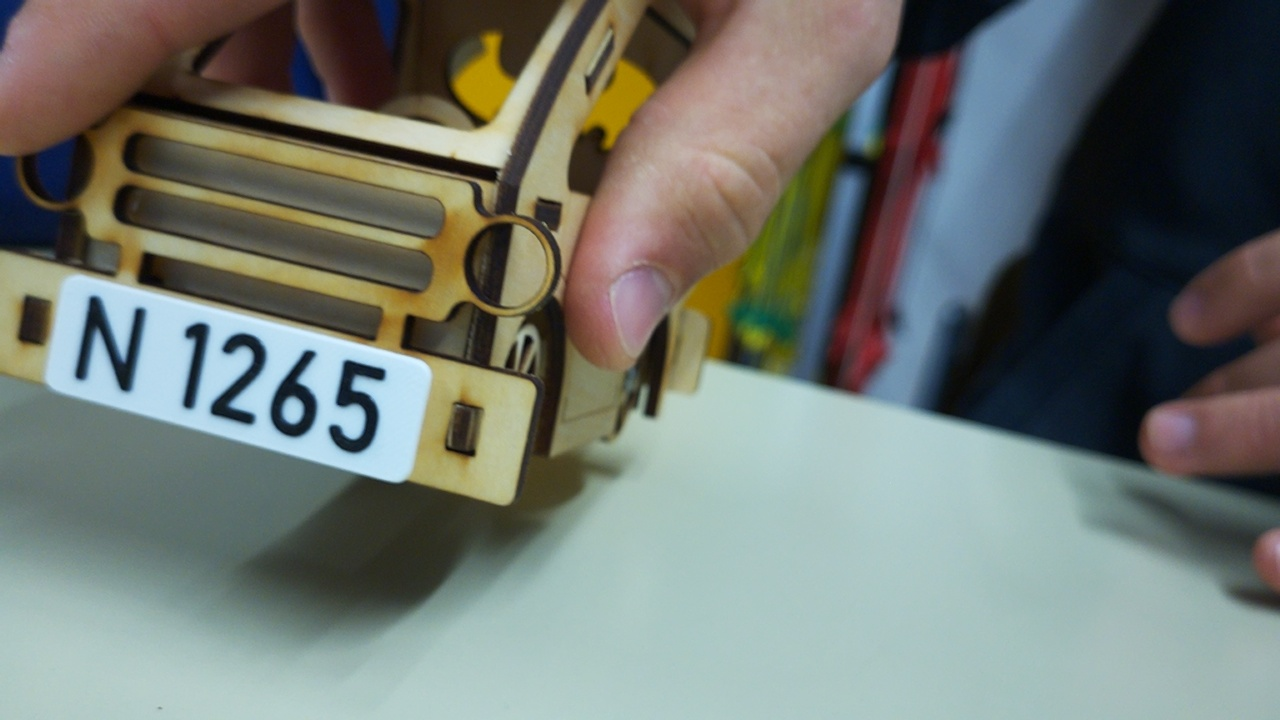license_plate: (44, 271, 433, 484)
